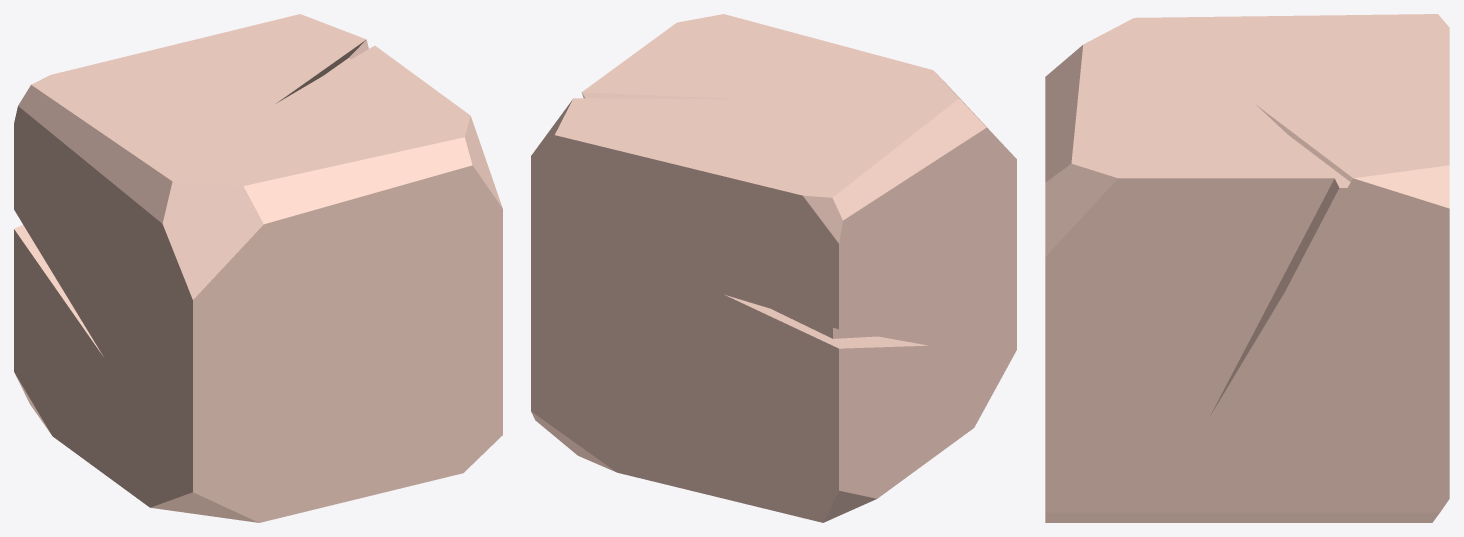
The model's file is Stone 1.fbx.
3 renders of one model, left to right at view 1: azimuth 30°, elevation 25°; view 2: azimuth 150°, elevation 25°; view 3: azimuth 270°, elevation 25°, orthographic. The views are drawn at different scales.
Parts seen in each view (by area): view 1: Stone 1; view 2: Stone 1; view 3: Stone 1.
Part boxes in pixels (left/top/right/bottom): Stone 1: left=14, top=14, right=502, bottom=522; Stone 1: left=531, top=14, right=1016, bottom=522; Stone 1: left=1045, top=14, right=1449, bottom=522.
Bounding box in the file's own units: 200 × 200 × 200.
